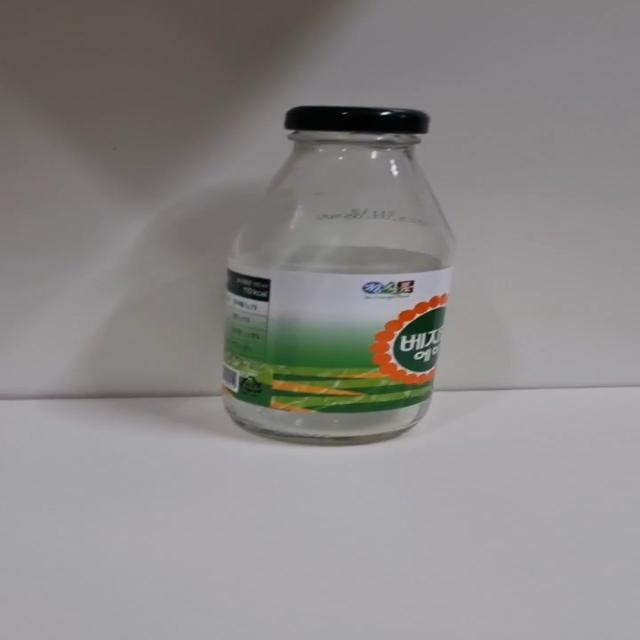Glass: (216, 106, 454, 448)
